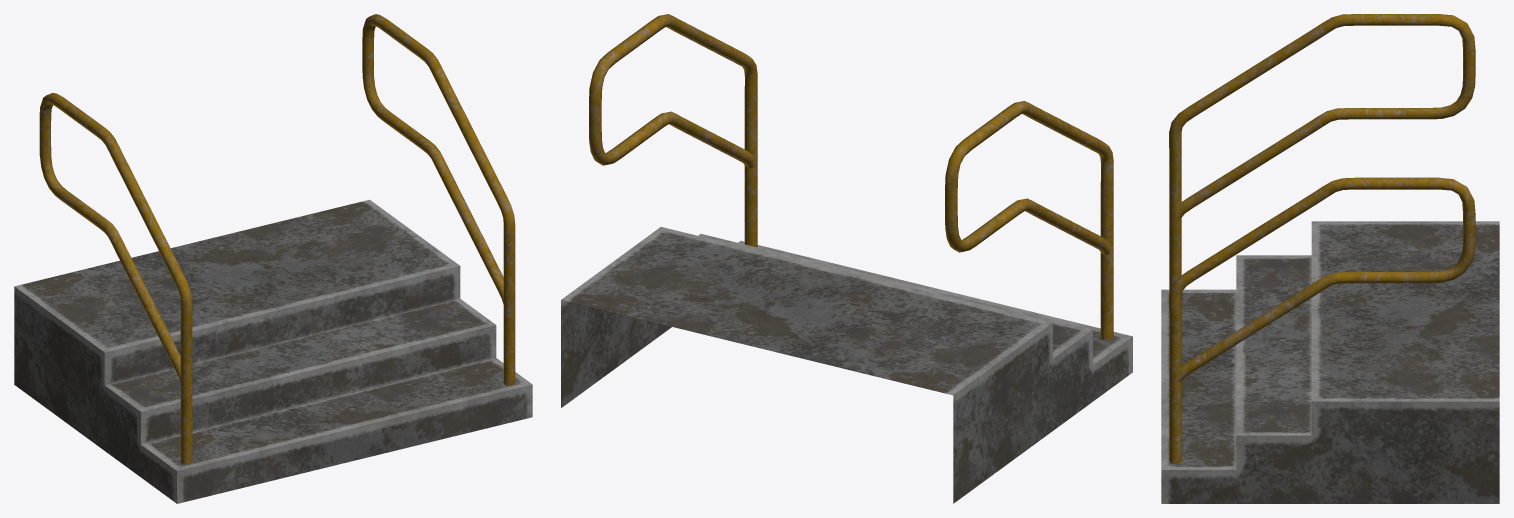
Rendered from Stairs.fbx.
The picture shows the model from 3 angles, left to right: view 1: azimuth 30°, elevation 25°; view 2: azimuth 150°, elevation 25°; view 3: azimuth 270°, elevation 25°; orthographic projection. The views are drawn at different scales.
Visible parts, largest first — view 1: Stairs; view 2: Stairs; view 3: Stairs.
Boxes of the visible parts, x1,y1,x2,y2 form: Stairs: (14, 14, 532, 503); Stairs: (561, 14, 1132, 503); Stairs: (1161, 14, 1499, 503).
Bounding box in the file's own units: 170 × 140 × 135.
